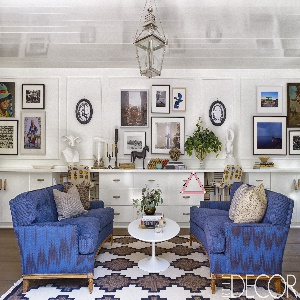triangle: (179, 171, 207, 195)
